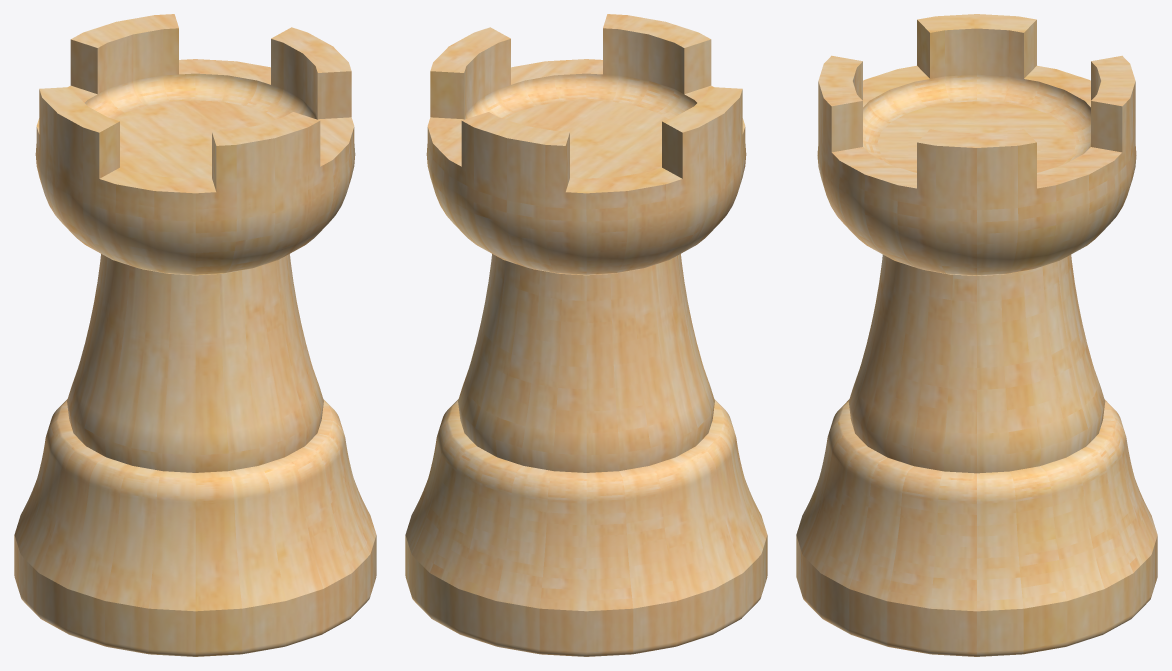
The model's file is Castle_w.dae.
The picture shows the model from 3 angles, left to right: view 1: azimuth 30°, elevation 25°; view 2: azimuth 150°, elevation 25°; view 3: azimuth 270°, elevation 25°; orthographic projection.
Visible parts, largest first — view 1: SketchUp; view 2: SketchUp; view 3: SketchUp.
Part boxes in pixels (box(x1,y1,x2,y2)): SketchUp: box(14, 14, 376, 656); SketchUp: box(405, 14, 767, 656); SketchUp: box(796, 14, 1157, 656).
Bounding box in the file's own units: 26.91 × 26.91 × 41.15.
1 material, 1 textured.
